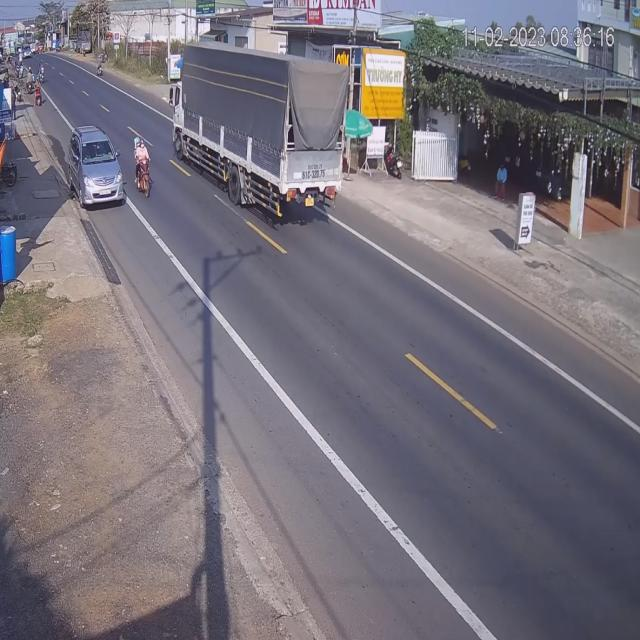car: (68, 125, 125, 208)
motorbike: (134, 138, 152, 202)
truck: (173, 50, 354, 226)
